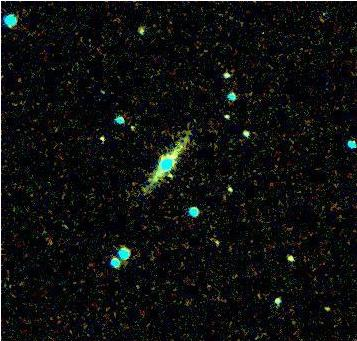star: (153, 162, 183, 192)
